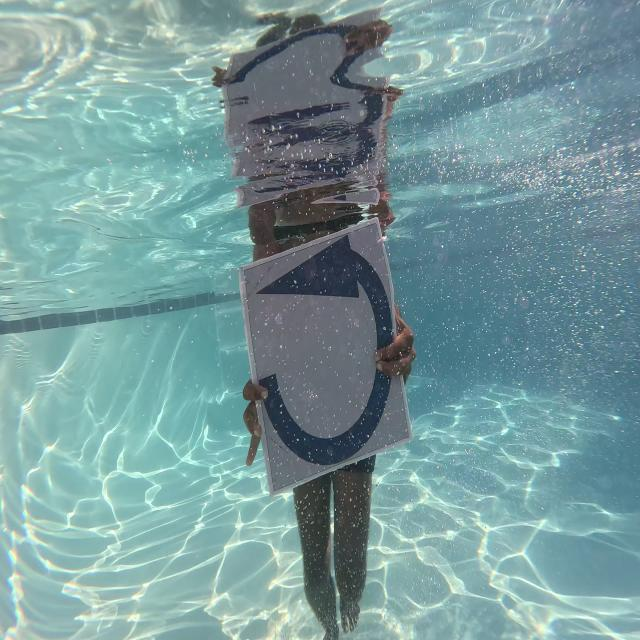blue_side: (226, 255, 410, 473)
